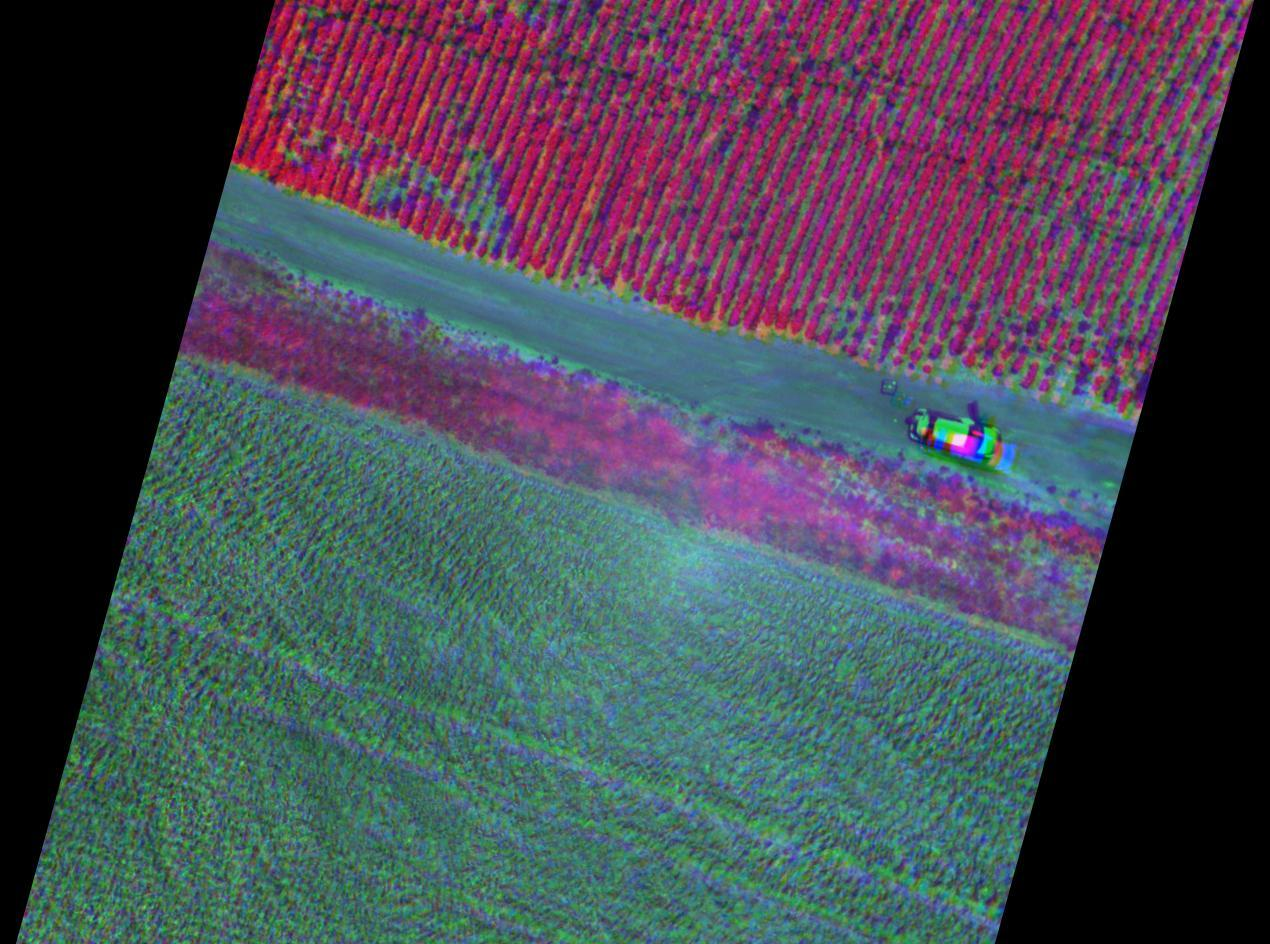dc: (827, 285, 962, 362), (444, 154, 522, 262), (998, 326, 1072, 404), (360, 151, 419, 208)
